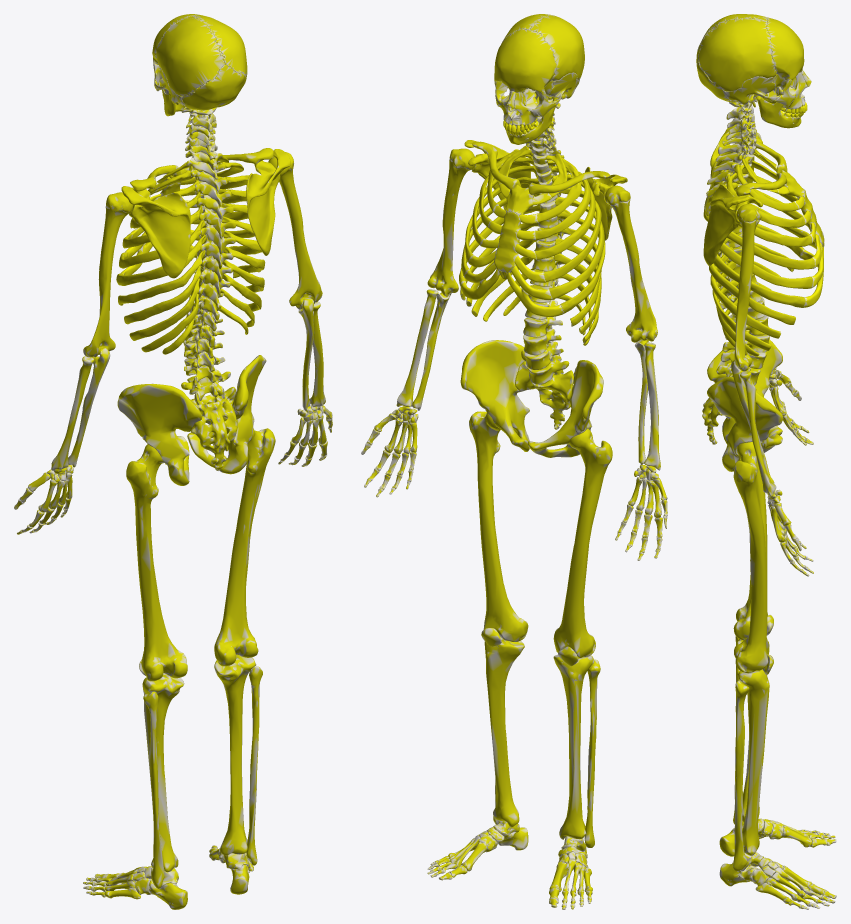
Rendered from h3y-full-skeleton-bone-master.glb.
3 renders of one model, left to right at view 1: azimuth 30°, elevation 25°; view 2: azimuth 150°, elevation 25°; view 3: azimuth 270°, elevation 25°, orthographic. The views are drawn at different scales.
Parts seen in each view (by area): view 1: femur_L, femur_R, hip_bone_L, parietal_bone_L, scapula_L, tibia_R, tibia_L, hip_bone_R, humerus_L, scapula_R, sacrum, humerus_R (+14 smaller); view 2: femur_L, femur_R, hip_bone_R, tibia_R, frontal_bone, tibia_L, hip_bone_L, humerus_L, humerus_R, parietal_bone_L, sacrum, fibula_L (+18 smaller); view 3: femur_R, parietal_bone_R, tibia_R, hip_bone_R, humerus_R, scapula_R, fibula_R, frontal_bone, hip_bone_L, femur_L, radius_R, temporal_bone_R (+25 smaller).
Boxes of the visible parts, left/top/right/bottom form: femur_L: left=126, top=444, right=187, bottom=681; femur_R: left=214, top=428, right=275, bottom=666; hip_bone_L: left=117, top=383, right=202, bottom=485; parietal_bone_L: left=156, top=16, right=225, bottom=96; scapula_L: left=121, top=186, right=190, bottom=278; tibia_R: left=214, top=654, right=256, bottom=855; tibia_L: left=142, top=673, right=184, bottom=872; hip_bone_R: left=187, top=355, right=266, bottom=474; humerus_L: left=83, top=192, right=133, bottom=357; scapula_R: left=246, top=149, right=290, bottom=255; sacrum: left=190, top=387, right=237, bottom=471; humerus_R: left=268, top=152, right=322, bottom=309; femur_L: left=553, top=428, right=612, bottom=657; femur_R: left=469, top=411, right=528, bottom=641; hip_bone_R: left=460, top=340, right=529, bottom=451; tibia_R: left=484, top=637, right=524, bottom=826; frontal_bone: left=494, top=28, right=556, bottom=92; tibia_L: left=553, top=654, right=593, bottom=839; hip_bone_L: left=528, top=360, right=603, bottom=457; humerus_L: left=605, top=185, right=657, bottom=342; humerus_R: left=427, top=148, right=474, bottom=296; parietal_bone_L: left=530, top=15, right=584, bottom=80; sacrum: left=515, top=361, right=573, bottom=429; fibula_L: left=584, top=659, right=600, bottom=847; femur_R: left=733, top=442, right=768, bottom=673; parietal_bone_R: left=698, top=17, right=776, bottom=91; tibia_R: left=737, top=668, right=769, bottom=855; hip_bone_R: left=707, top=376, right=782, bottom=471; humerus_R: left=734, top=204, right=761, bottom=371; scapula_R: left=703, top=184, right=762, bottom=265; fibula_R: left=733, top=680, right=749, bottom=870; frontal_bone: left=766, top=17, right=804, bottom=80; hip_bone_L: left=707, top=330, right=782, bottom=444; femur_L: left=733, top=460, right=767, bottom=640; radius_R: left=740, top=371, right=776, bottom=497; temporal_bone_R: left=725, top=76, right=779, bottom=107.
Bounding box in the file's own units: 0.6478 × 1.71 × 0.254.
